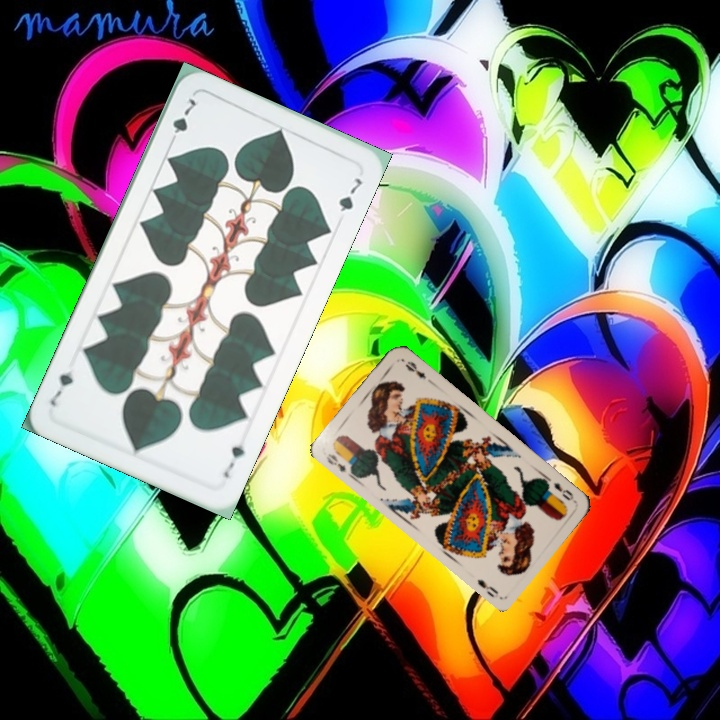EO: (322, 447, 356, 479), (549, 478, 576, 503)
G7: (165, 94, 199, 148), (219, 440, 248, 481)
